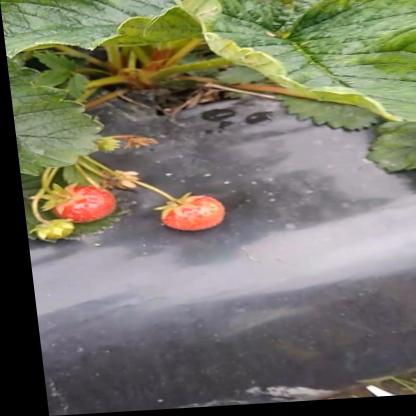ripe: (152, 196, 223, 238), (41, 185, 114, 225)
unripe: (24, 220, 70, 242)
